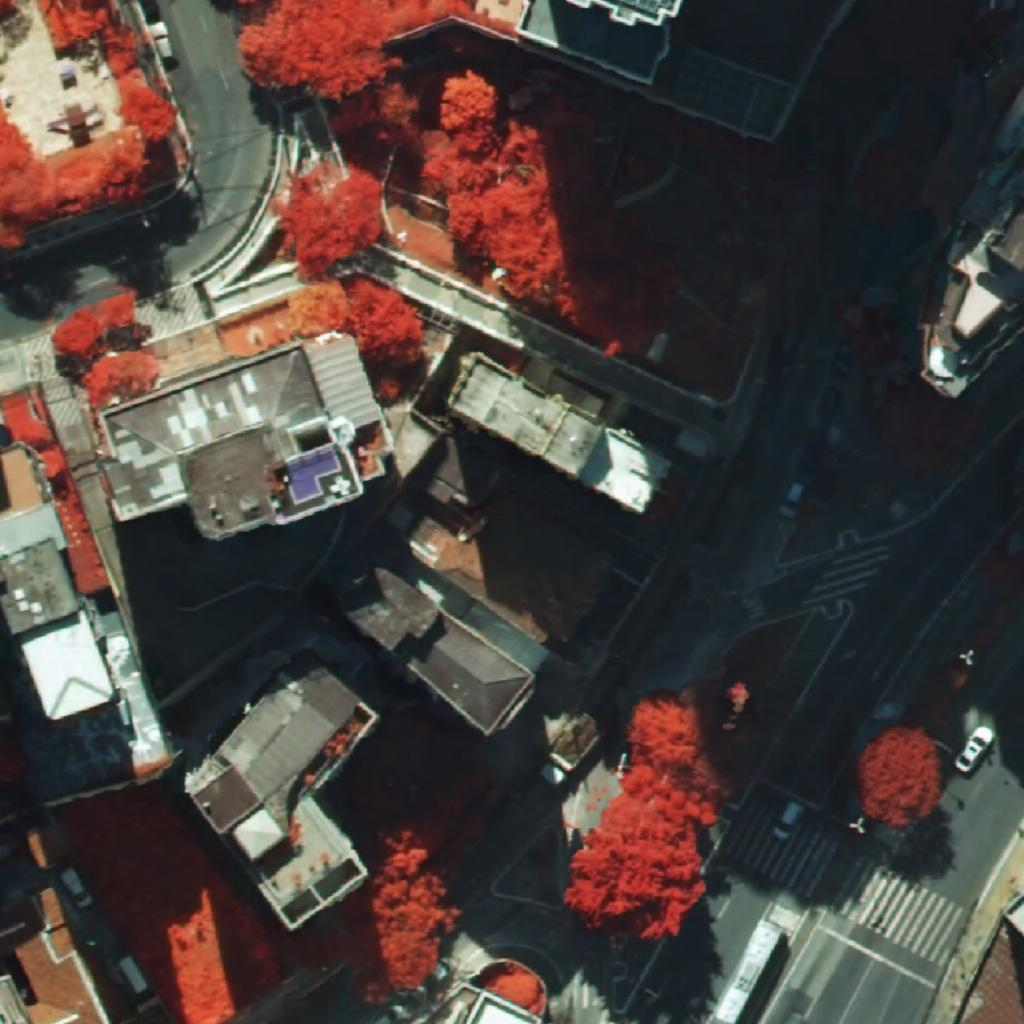pool: (287, 451, 338, 501)
